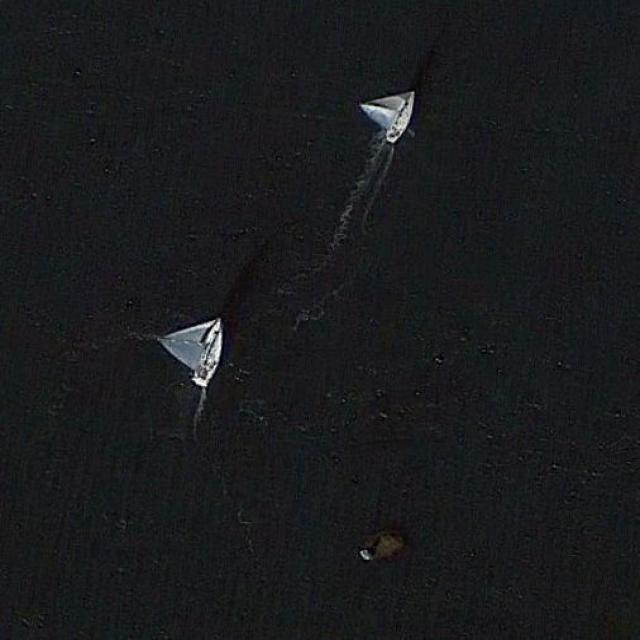boat: (156, 310, 225, 388), (358, 88, 416, 146)
